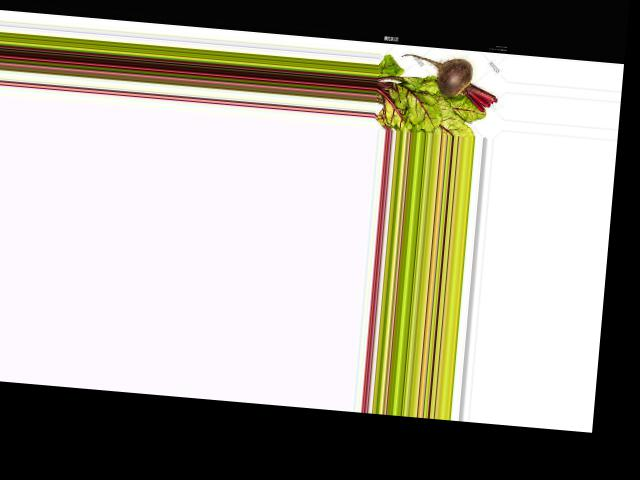beet: (397, 53, 501, 113)
